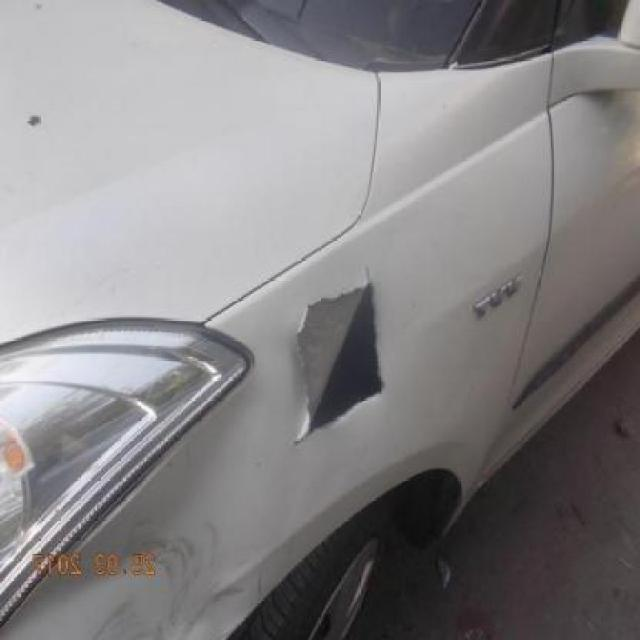damage: (293, 277, 388, 451)
